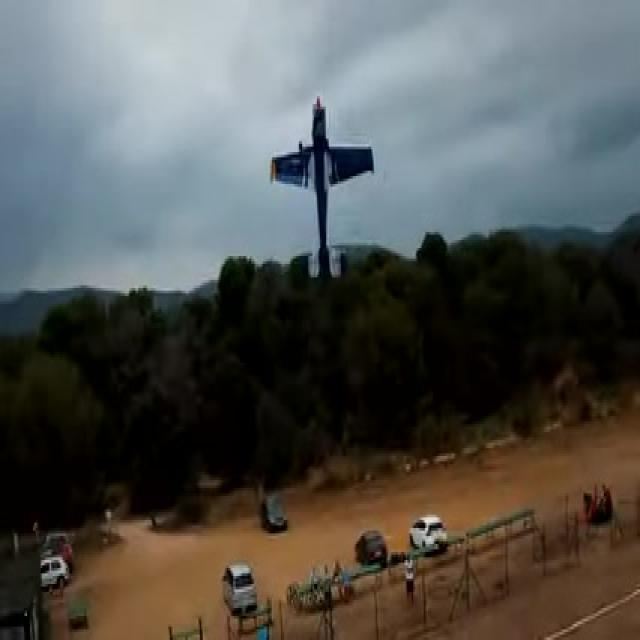iha: (301, 94, 343, 288)
